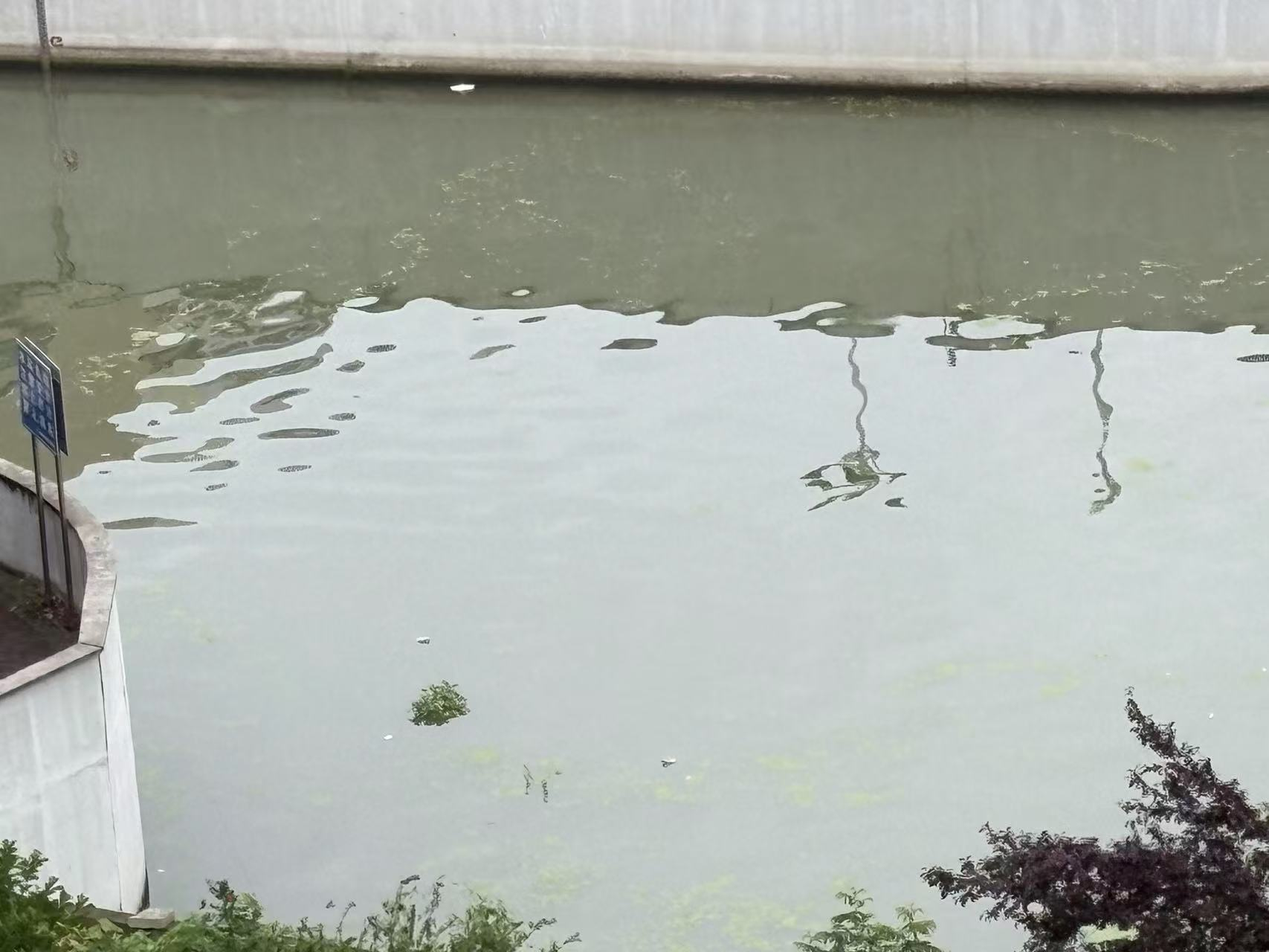Natural wastes: (414, 686, 470, 724)
Plastic wastes: (451, 79, 477, 93), (659, 756, 676, 766), (413, 634, 431, 643), (382, 733, 394, 740)
